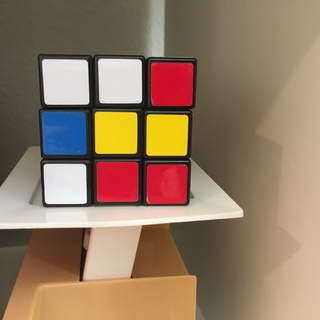face: (38, 55, 194, 207)
